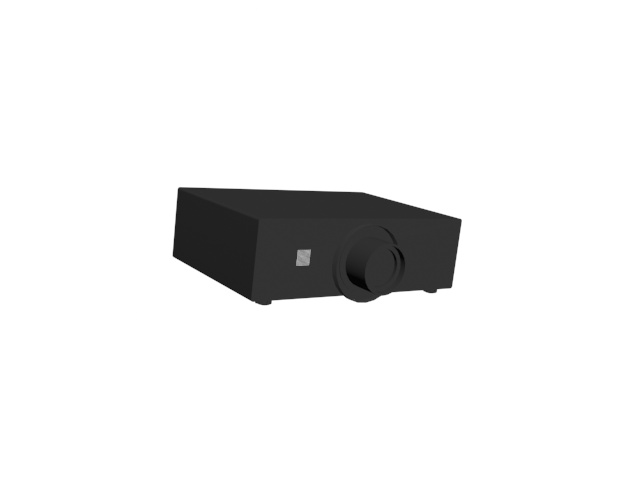projector: (169, 185, 464, 312)
